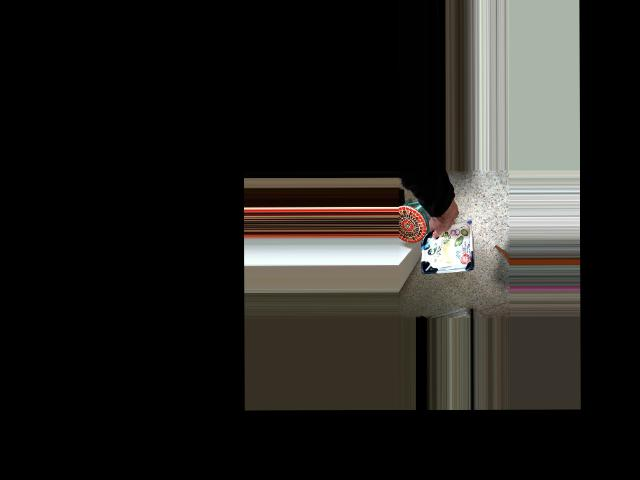cheese: (414, 204, 480, 271)
